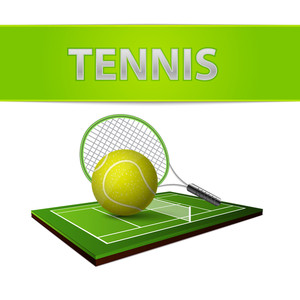tennis_ball: (94, 149, 159, 215)
